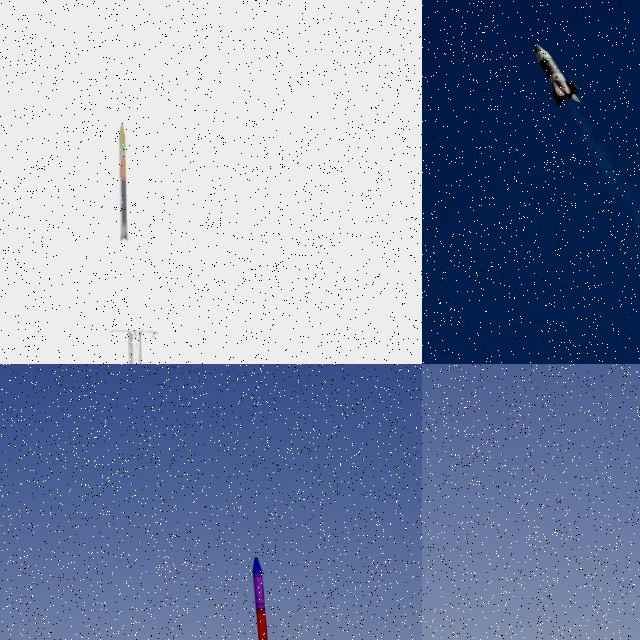Rocket: (533, 42, 583, 106), (252, 556, 282, 640), (118, 123, 129, 241)
